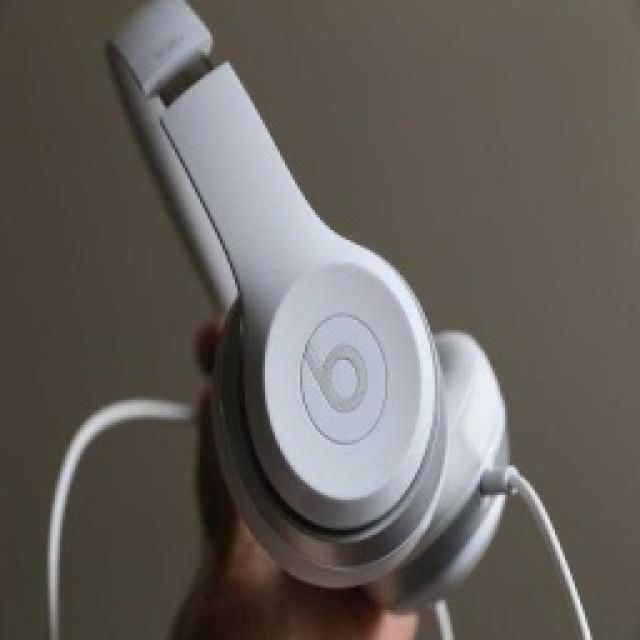headphones: (103, 0, 515, 610)
